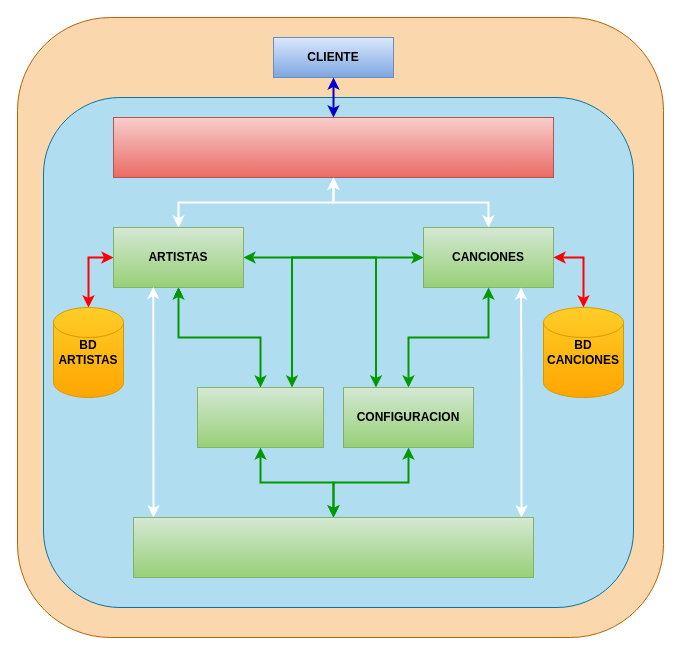
The diagram is 681 pixels wide and 655 high, and some of its shapes have lost their labels. Here are the shapes that lost their labels. From the top down, the centre of each, then its label:
At pixel 333 147: "API GATEWAY".
At pixel 260 417: "LOGS".
At pixel 333 547: "BOT DE TELEGRAM".
